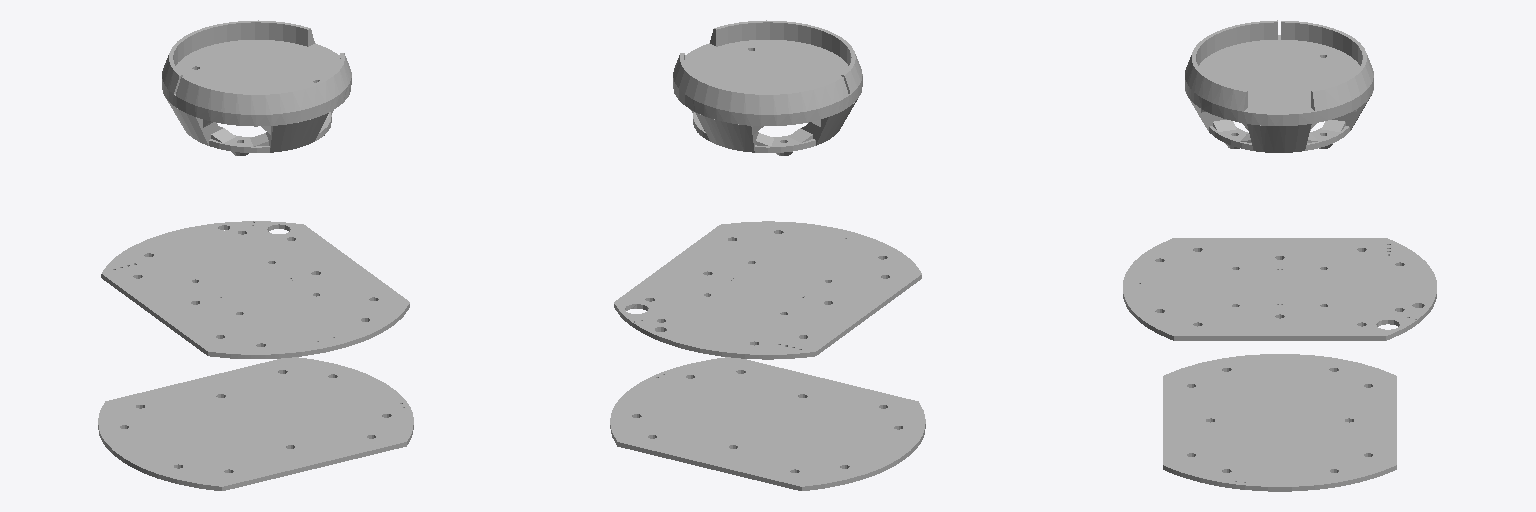
The robot description file, URDF, robot "robot_description":
<?xml version="1.0" encoding="utf-8"?>
<!-- This URDF was automatically created by SolidWorks to URDF Exporter! Originally created by [author] ([email redacted]) 
     Commit Version: 1.5.1-0-g916b5db  Build Version: 1.5.7152.31018
     For more information, please see http://wiki.ros.org/sw_urdf_exporter -->
<robot
  name="robot_description">
  <link
    name="base_link">
    <inertial>
      <origin
        xyz="-2.17788399124432E-05 0.0296707040542089 7.81402825120996E-05"
        rpy="0 0 0" />
      <mass
        value="0.146517583349119" />
      <inertia
        ixx="0.000106560903252885"
        ixy="4.88069447698605E-08"
        ixz="-8.65453880040887E-08"
        iyy="0.000232025043330859"
        iyz="-3.73513294014937E-07"
        izz="0.000239273453341383" />
    </inertial>
    <visual>
      <origin
        xyz="0 0 0"
        rpy="0 0 0" />
      <geometry>
        <mesh
          filename="package://robot_description/meshes/base_link.STL" />
      </geometry>
      <material
        name="">
        <color
          rgba="0.752941176470588 0.752941176470588 0.752941176470588 1" />
      </material>
    </visual>
    <collision>
      <origin
        xyz="0 0 0"
        rpy="0 0 0" />
      <geometry>
        <mesh
          filename="package://robot_description/meshes/base_link.STL" />
      </geometry>
    </collision>
  </link>
  <link
    name="imu">
    <inertial>
      <origin
        xyz="-2.1779E-05 -7.814E-05 -0.016929"
        rpy="0 0 0" />
      <mass
        value="0.14652" />
      <inertia
        ixx="0.00010656"
        ixy="8.6545E-08"
        ixz="4.8807E-08"
        iyy="0.00023927"
        iyz="3.7351E-07"
        izz="0.00023203" />
    </inertial>
    <visual>
      <origin
        xyz="0 0 0"
        rpy="0 0 0" />
      <geometry>
        <mesh
          filename="package://robot_description/meshes/Imu_Link.STL" />
      </geometry>
      <material
        name="">
        <color
          rgba="0.75294 0.75294 0.75294 1" />
      </material>
    </visual>
    <collision>
      <origin
        xyz="0 0 0"
        rpy="0 0 0" />
      <geometry>
        <mesh
          filename="package://robot_description/meshes/Imu_Link.STL" />
      </geometry>
    </collision>
  </link>
  <joint
    name="Imu_Joint"
    type="fixed">
    <origin
      xyz="0 0 0.0466"
      rpy="0 0 0" />
    <parent
      link="base_link" />
    <child
      link="imu" />
    <axis
      xyz="0 0 0" />
  </joint>
  <link
    name="laser">
    <inertial>
      <origin
        xyz="-0.00026334 -0.00093869 -0.00029198"
        rpy="0 0 0" />
      <mass
        value="0.020045" />
      <inertia
        ixx="6.0464E-06"
        ixy="4.204E-08"
        ixz="1.1728E-07"
        iyy="1.0842E-05"
        iyz="4.3064E-08"
        izz="6.0561E-06" />
    </inertial>
    <visual>
      <origin
        xyz="0 0 0"
        rpy="0 0 0" />
      <geometry>
        <mesh
          filename="package://robot_description/meshes/Laser_Link.STL" />
      </geometry>
      <material
        name="">
        <color
          rgba="0.75294 0.75294 0.75294 1" />
      </material>
    </visual>
    <collision>
      <origin
        xyz="0 0 0"
        rpy="0 0 0" />
      <geometry>
        <mesh
          filename="package://robot_description/meshes/Laser_Link.STL" />
      </geometry>
    </collision>
  </link>
  <joint
    name="Laser_Joint"
    type="fixed">
    <origin
      xyz="0 0 0.122512"
      rpy="0 0 3.1415926" />
    <parent
      link="base_link" />
    <child
      link="laser" />
    <axis
      xyz="0 0 0" />
  </joint>
</robot>

--- What the picture shows (computed from the rendered views, not written in the file) ---
The picture shows the robot from 3 angles, left to right: view 1: azimuth 30°, elevation 25°; view 2: azimuth 150°, elevation 25°; view 3: azimuth 270°, elevation 25°; orthographic projection.
Model robot_description with 3 links and 2 joints (2 fixed), rooted at base_link, posed all joints at 0.
Links seen in each view (by area): view 1: base_link, imu, laser; view 2: base_link, imu, laser; view 3: imu, base_link, laser.
Boxes of the visible links, bbox=[...] form: base_link: bbox=[98, 357, 413, 490]; imu: bbox=[101, 221, 409, 358]; laser: bbox=[162, 20, 351, 155]; base_link: bbox=[610, 357, 925, 490]; imu: bbox=[614, 221, 921, 359]; laser: bbox=[673, 20, 862, 155]; imu: bbox=[1123, 238, 1436, 340]; base_link: bbox=[1163, 354, 1396, 491]; laser: bbox=[1185, 20, 1373, 152].
Bounding box of the posed robot: 0.0997 × 0.0997 × 0.1285 m (x, y, z).
Meshes: 3 distinct files referenced, 3 mesh visuals loaded (3 binary STL).